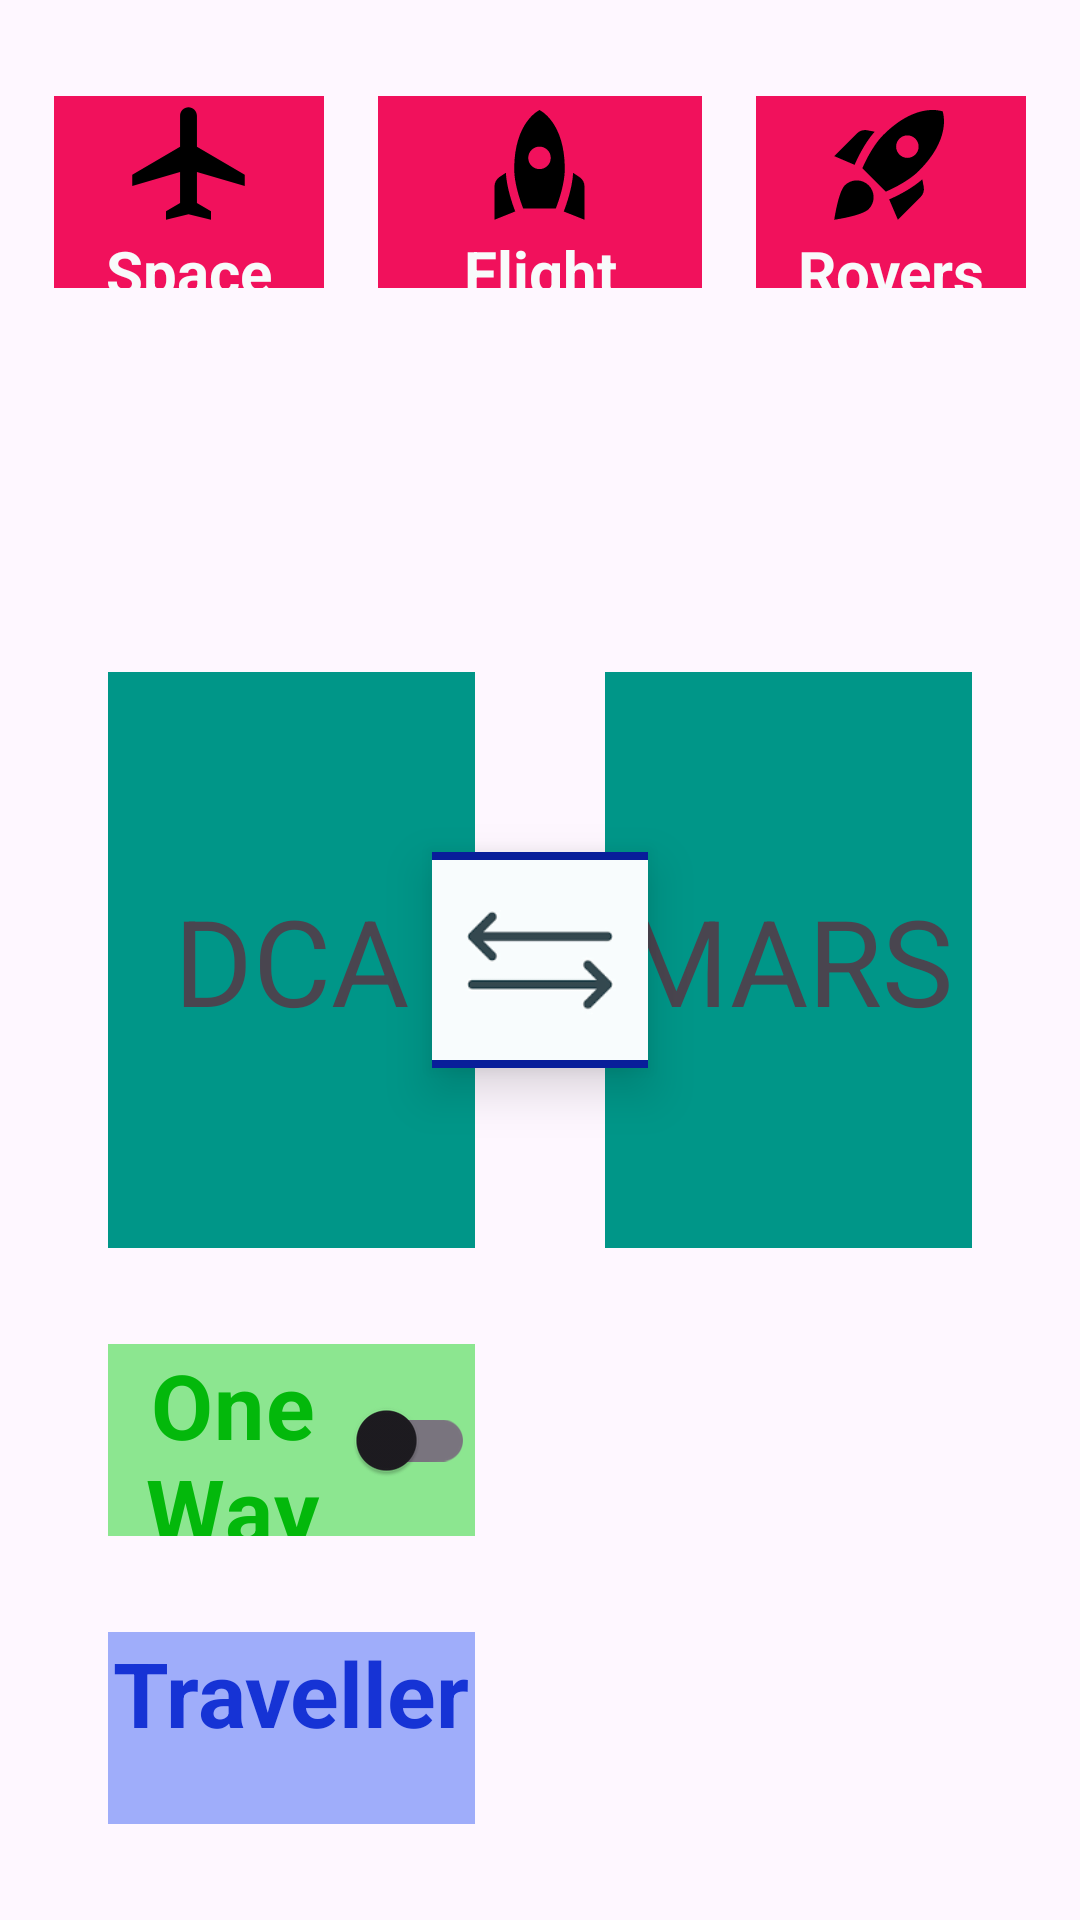

Screen size 1080w x 1920h. Icon name, then its center in pixels as (x=x, y=y):
arrow: (x=540, y=960)
